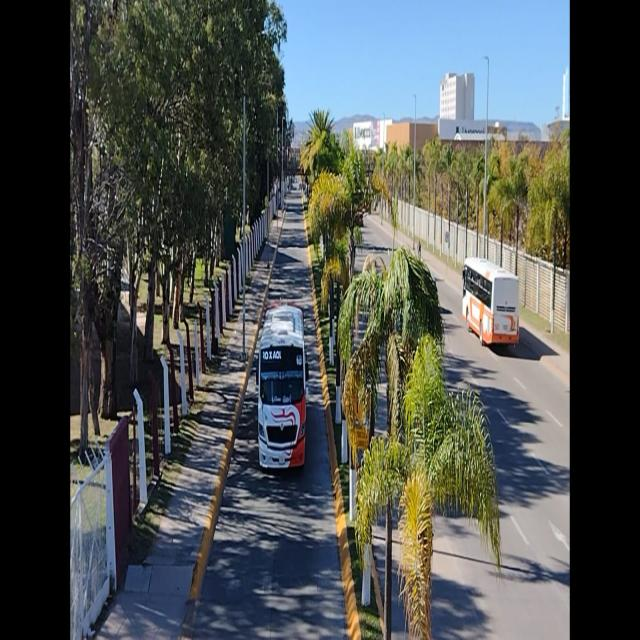Autobus: (257, 303, 307, 472), (460, 254, 522, 350)
